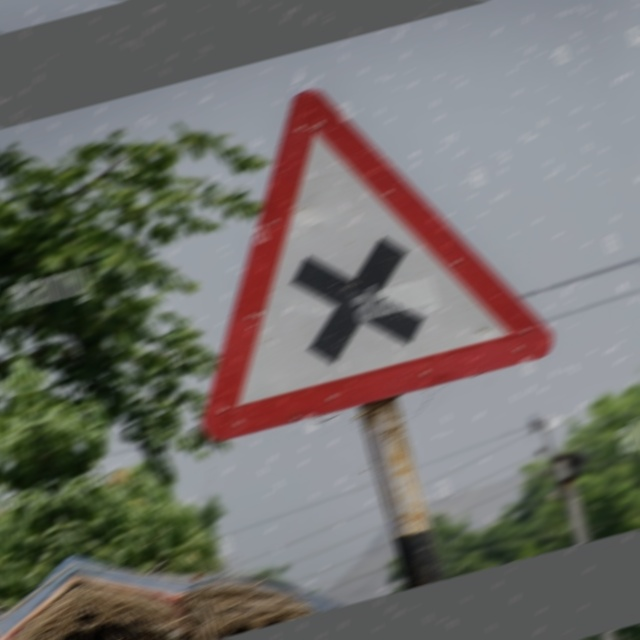Cross_Road: (125, 41, 559, 444)
